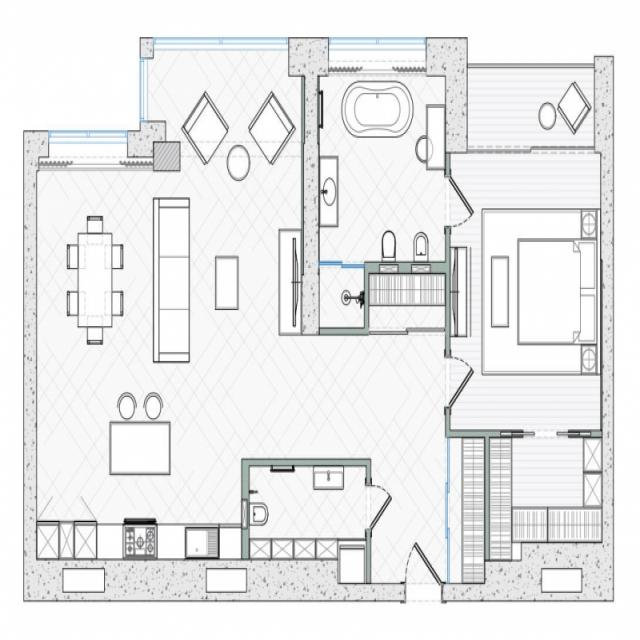bed: (515, 208, 596, 371)
door: (443, 351, 472, 408), (404, 543, 441, 582), (366, 483, 390, 532), (467, 144, 594, 151), (369, 325, 442, 336), (500, 431, 594, 436)
sofa: (153, 198, 188, 364)
table: (66, 215, 121, 341)
toilet: (381, 230, 396, 272), (414, 232, 428, 263), (249, 502, 266, 524)
